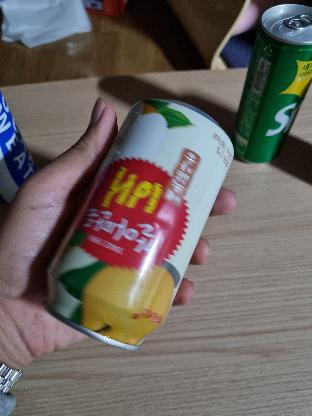Can: (44, 98, 235, 351)
